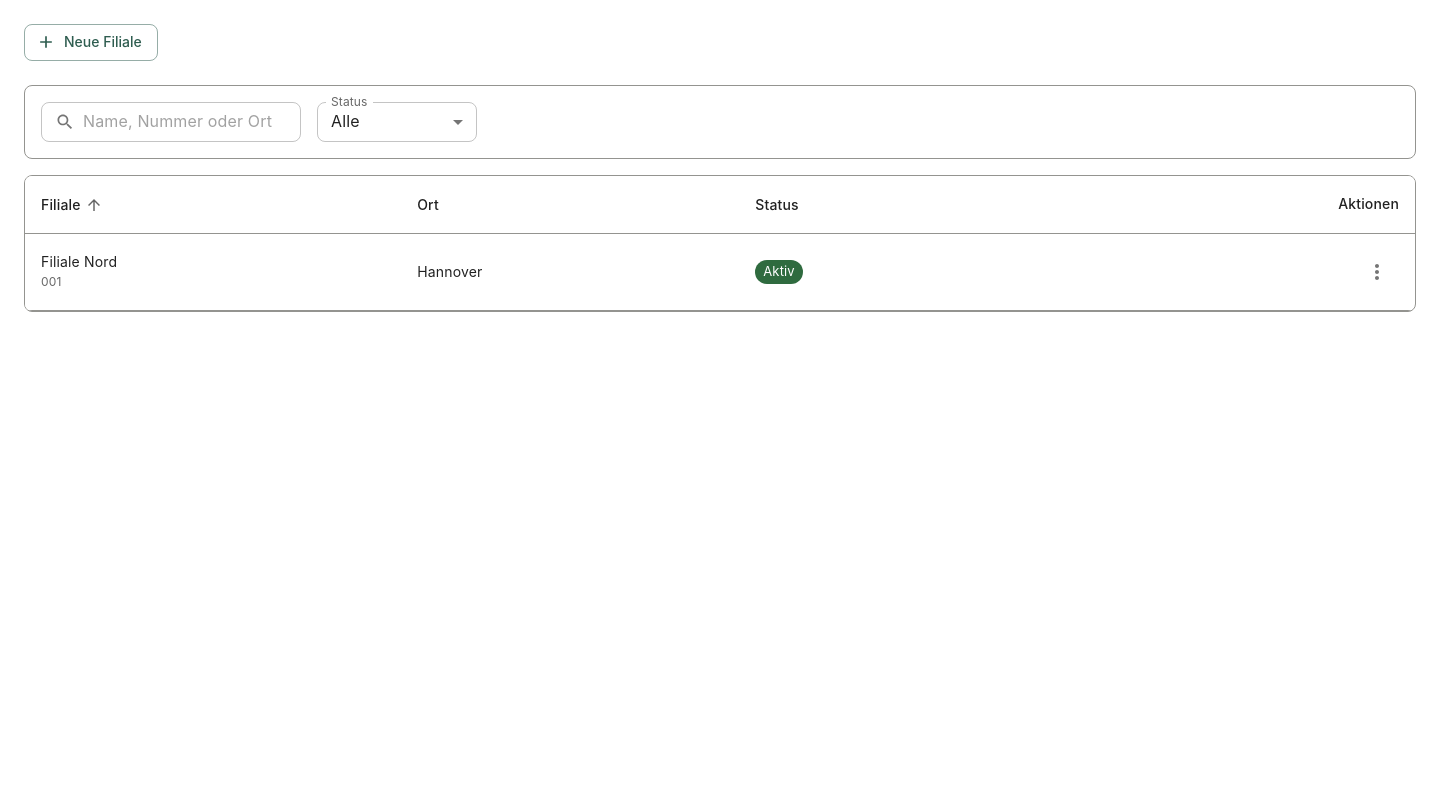
Test: BranchMasterDataView › opens BranchDialog pre-filled for editing via the kebab menu
Click the button named "Weitere Aktionen für Filiale Nord" at (1377, 272), box [1355,250,1399,294]
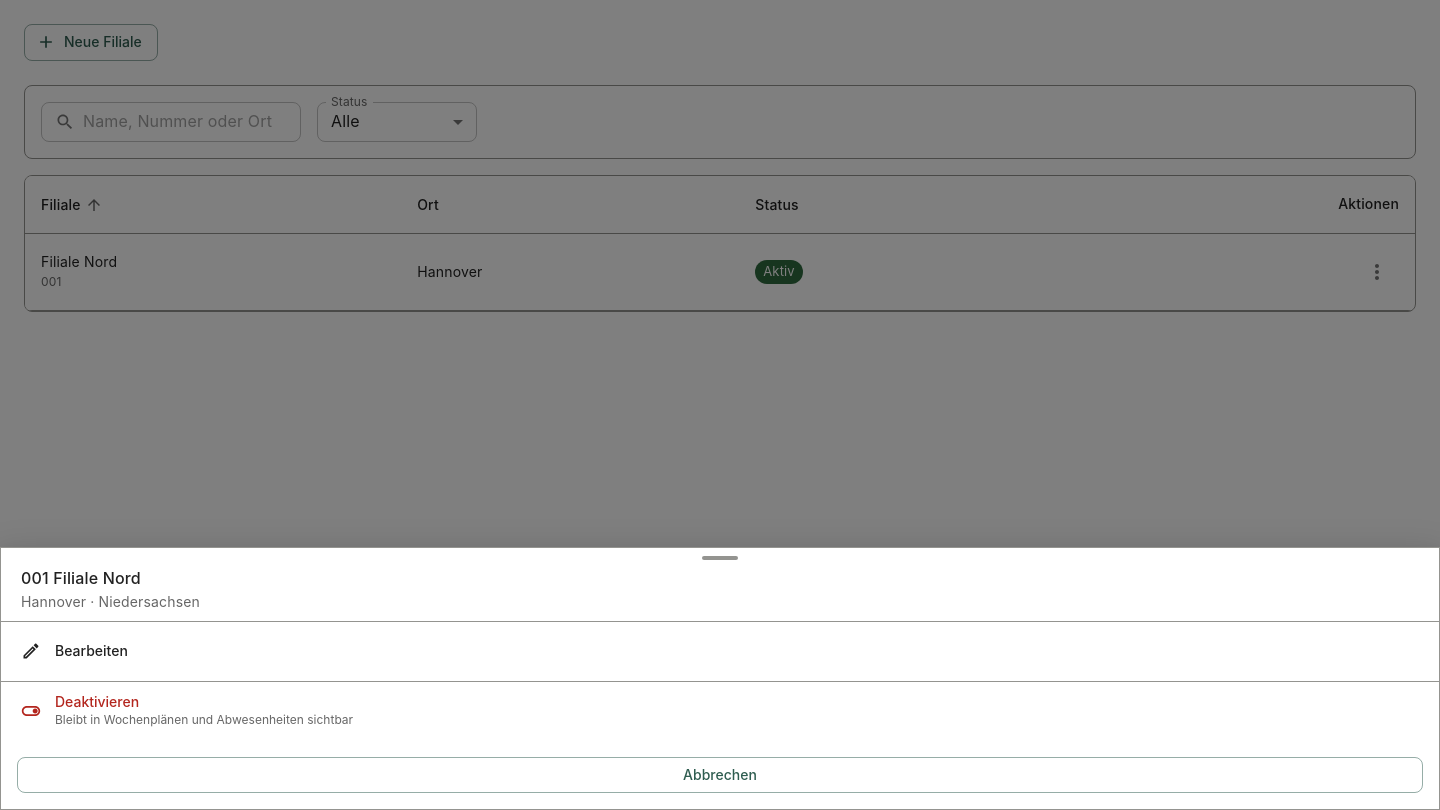
Click the button "Bearbeiten" at (91, 650), box [1,620,1439,680]
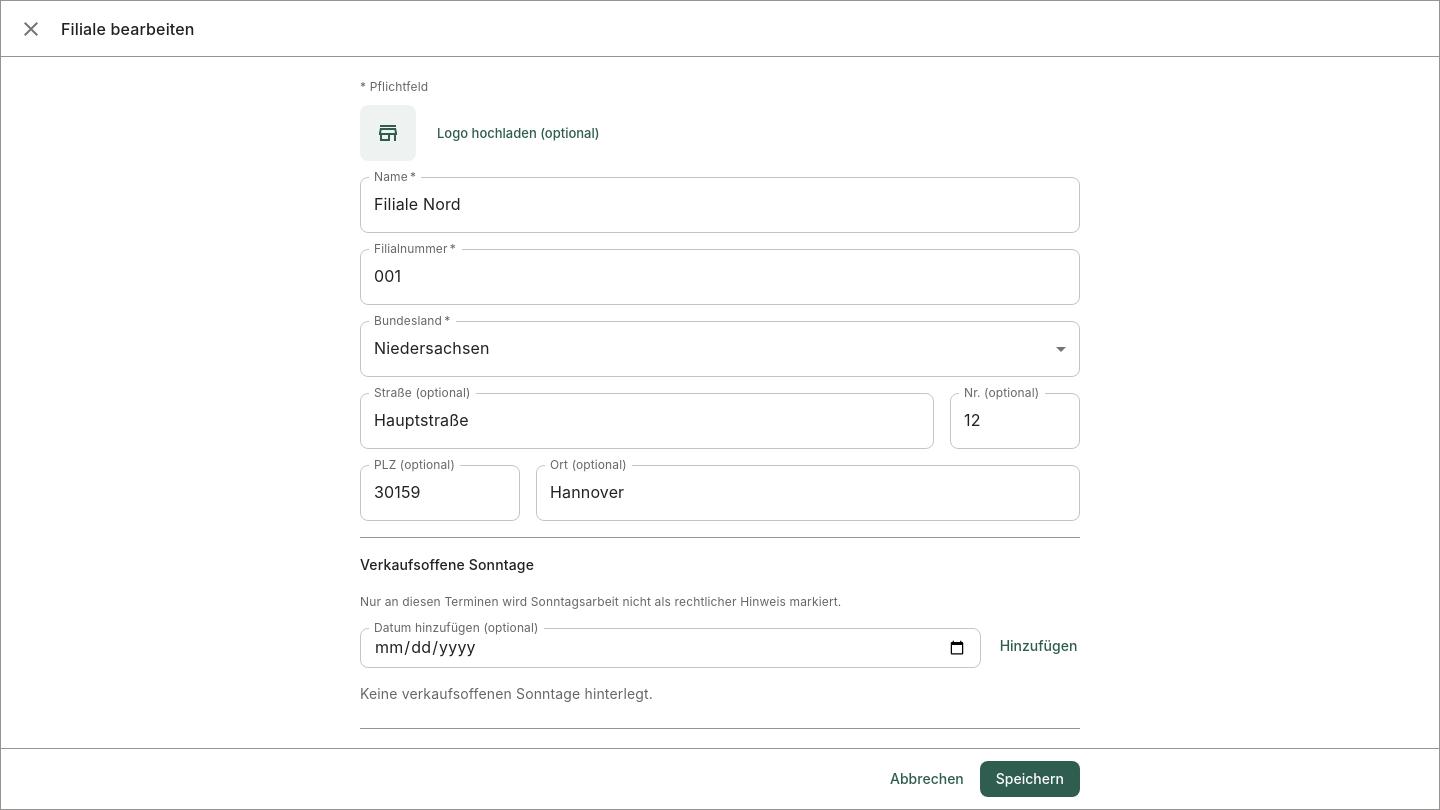
Result: the heading "Filiale bearbeiten" is shown at [61,18,195,38]
Result: the field labelled "Name" holds "Filiale Nord" at [360,177,1080,233]
